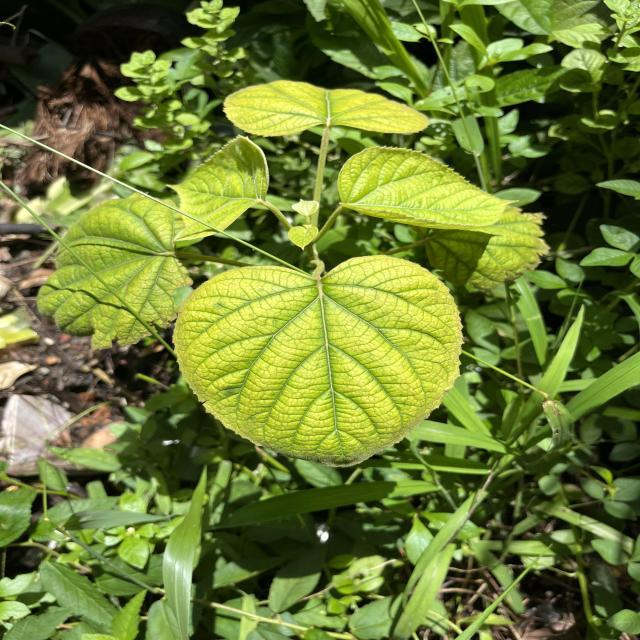Clerodendrum infortunatum: (170, 254, 468, 471), (35, 190, 194, 352), (336, 144, 520, 232), (223, 80, 431, 138), (164, 134, 270, 244)
